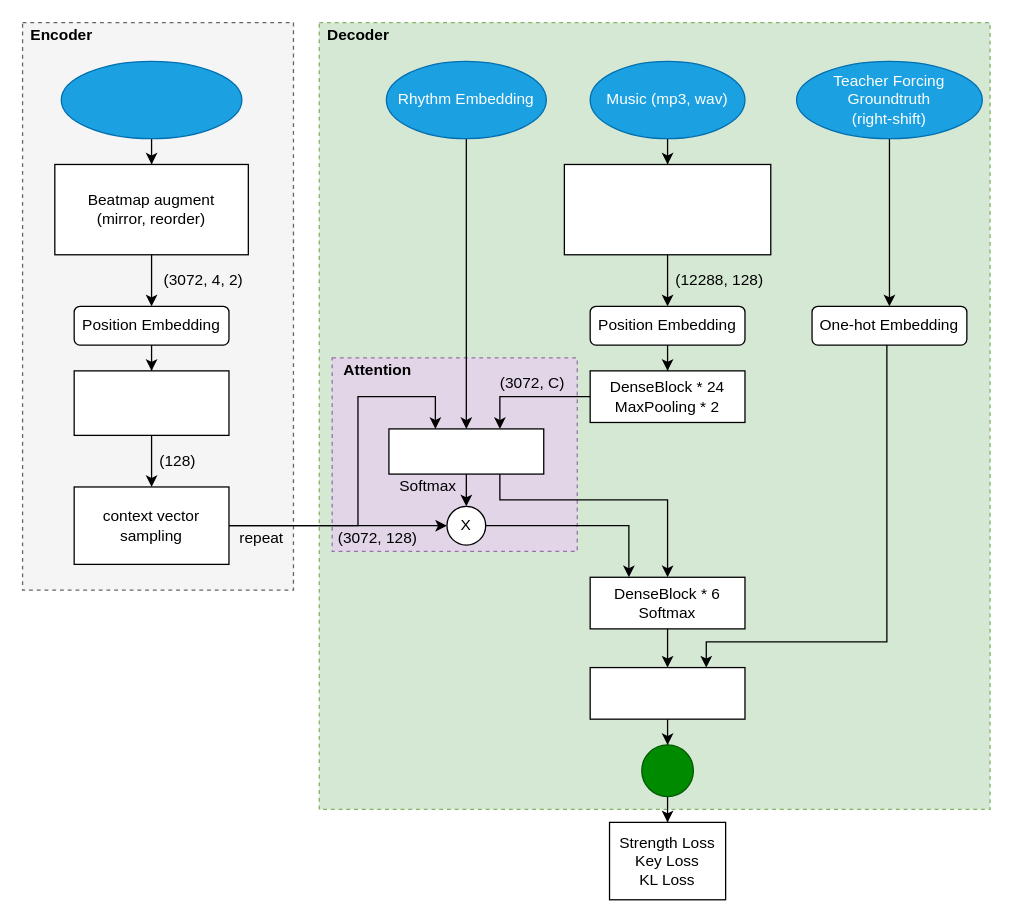
The diagram is 1013 pixels wide and 922 high, and some of its shapes have lost their labels. The shapes that lost their labels are listed below. From the top down, each one's centre as x and y in pixels, then its label:
At point (151, 99): "Base Style Beatmap".
At point (667, 209): "Audio pre-processing (melspectrogram, p adding, clip, augment...)".
At point (151, 402): "DenseBlock * 36 MaxPooling * 3 Mean".
At point (466, 451): "DenseBlock * 6".
At point (667, 692): "LSTM Softmax".
At point (666, 770): "OUT".
